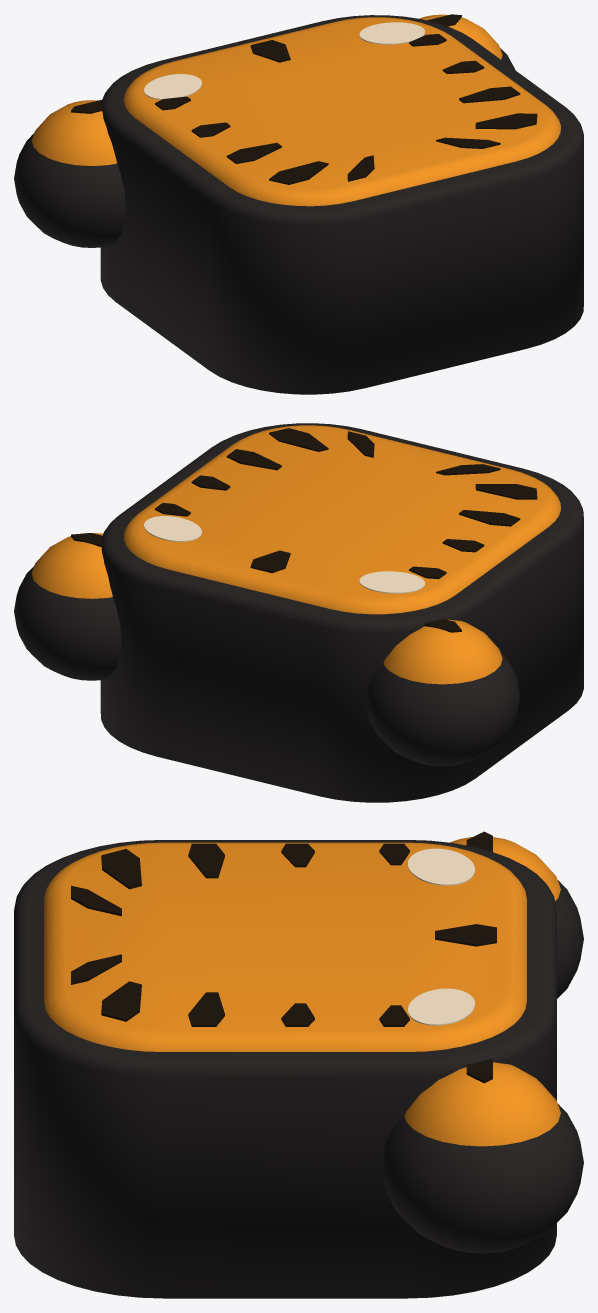
File: body_estampa_tigre.fbx
3 views of the same model, one above another, from view 1: azimuth 30°, elevation 25°; view 2: azimuth 150°, elevation 25°; view 3: azimuth 270°, elevation 25° (orthographic). The views are drawn at different scales.
Parts seen in each view (by area): view 1: body_estampa_tigre_corpo, body_estampa_tigre_mao_esq, body_estampa_tigre_mao; view 2: body_estampa_tigre_corpo, body_estampa_tigre_mao_esq, body_estampa_tigre_mao; view 3: body_estampa_tigre_corpo, body_estampa_tigre_mao, body_estampa_tigre_mao_esq.
Boxes of the visible parts, x1=… form: body_estampa_tigre_corpo: x1=100, y1=15, x2=583, y2=394; body_estampa_tigre_mao_esq: x1=14, y1=100, x2=125, y2=247; body_estampa_tigre_mao: x1=419, y1=14, x2=515, y2=69; body_estampa_tigre_corpo: x1=100, y1=423, x2=583, y2=802; body_estampa_tigre_mao_esq: x1=366, y1=619, x2=520, y2=766; body_estampa_tigre_mao: x1=14, y1=533, x2=121, y2=680; body_estampa_tigre_corpo: x1=14, y1=840, x2=556, y2=1298; body_estampa_tigre_mao: x1=381, y1=1059, x2=583, y2=1253; body_estampa_tigre_mao_esq: x1=450, y1=831, x2=583, y2=998.
Bounding box in the file's own units: 5.4 × 2.03 × 4.2.
Materials: 1 (1 with a texture image).
